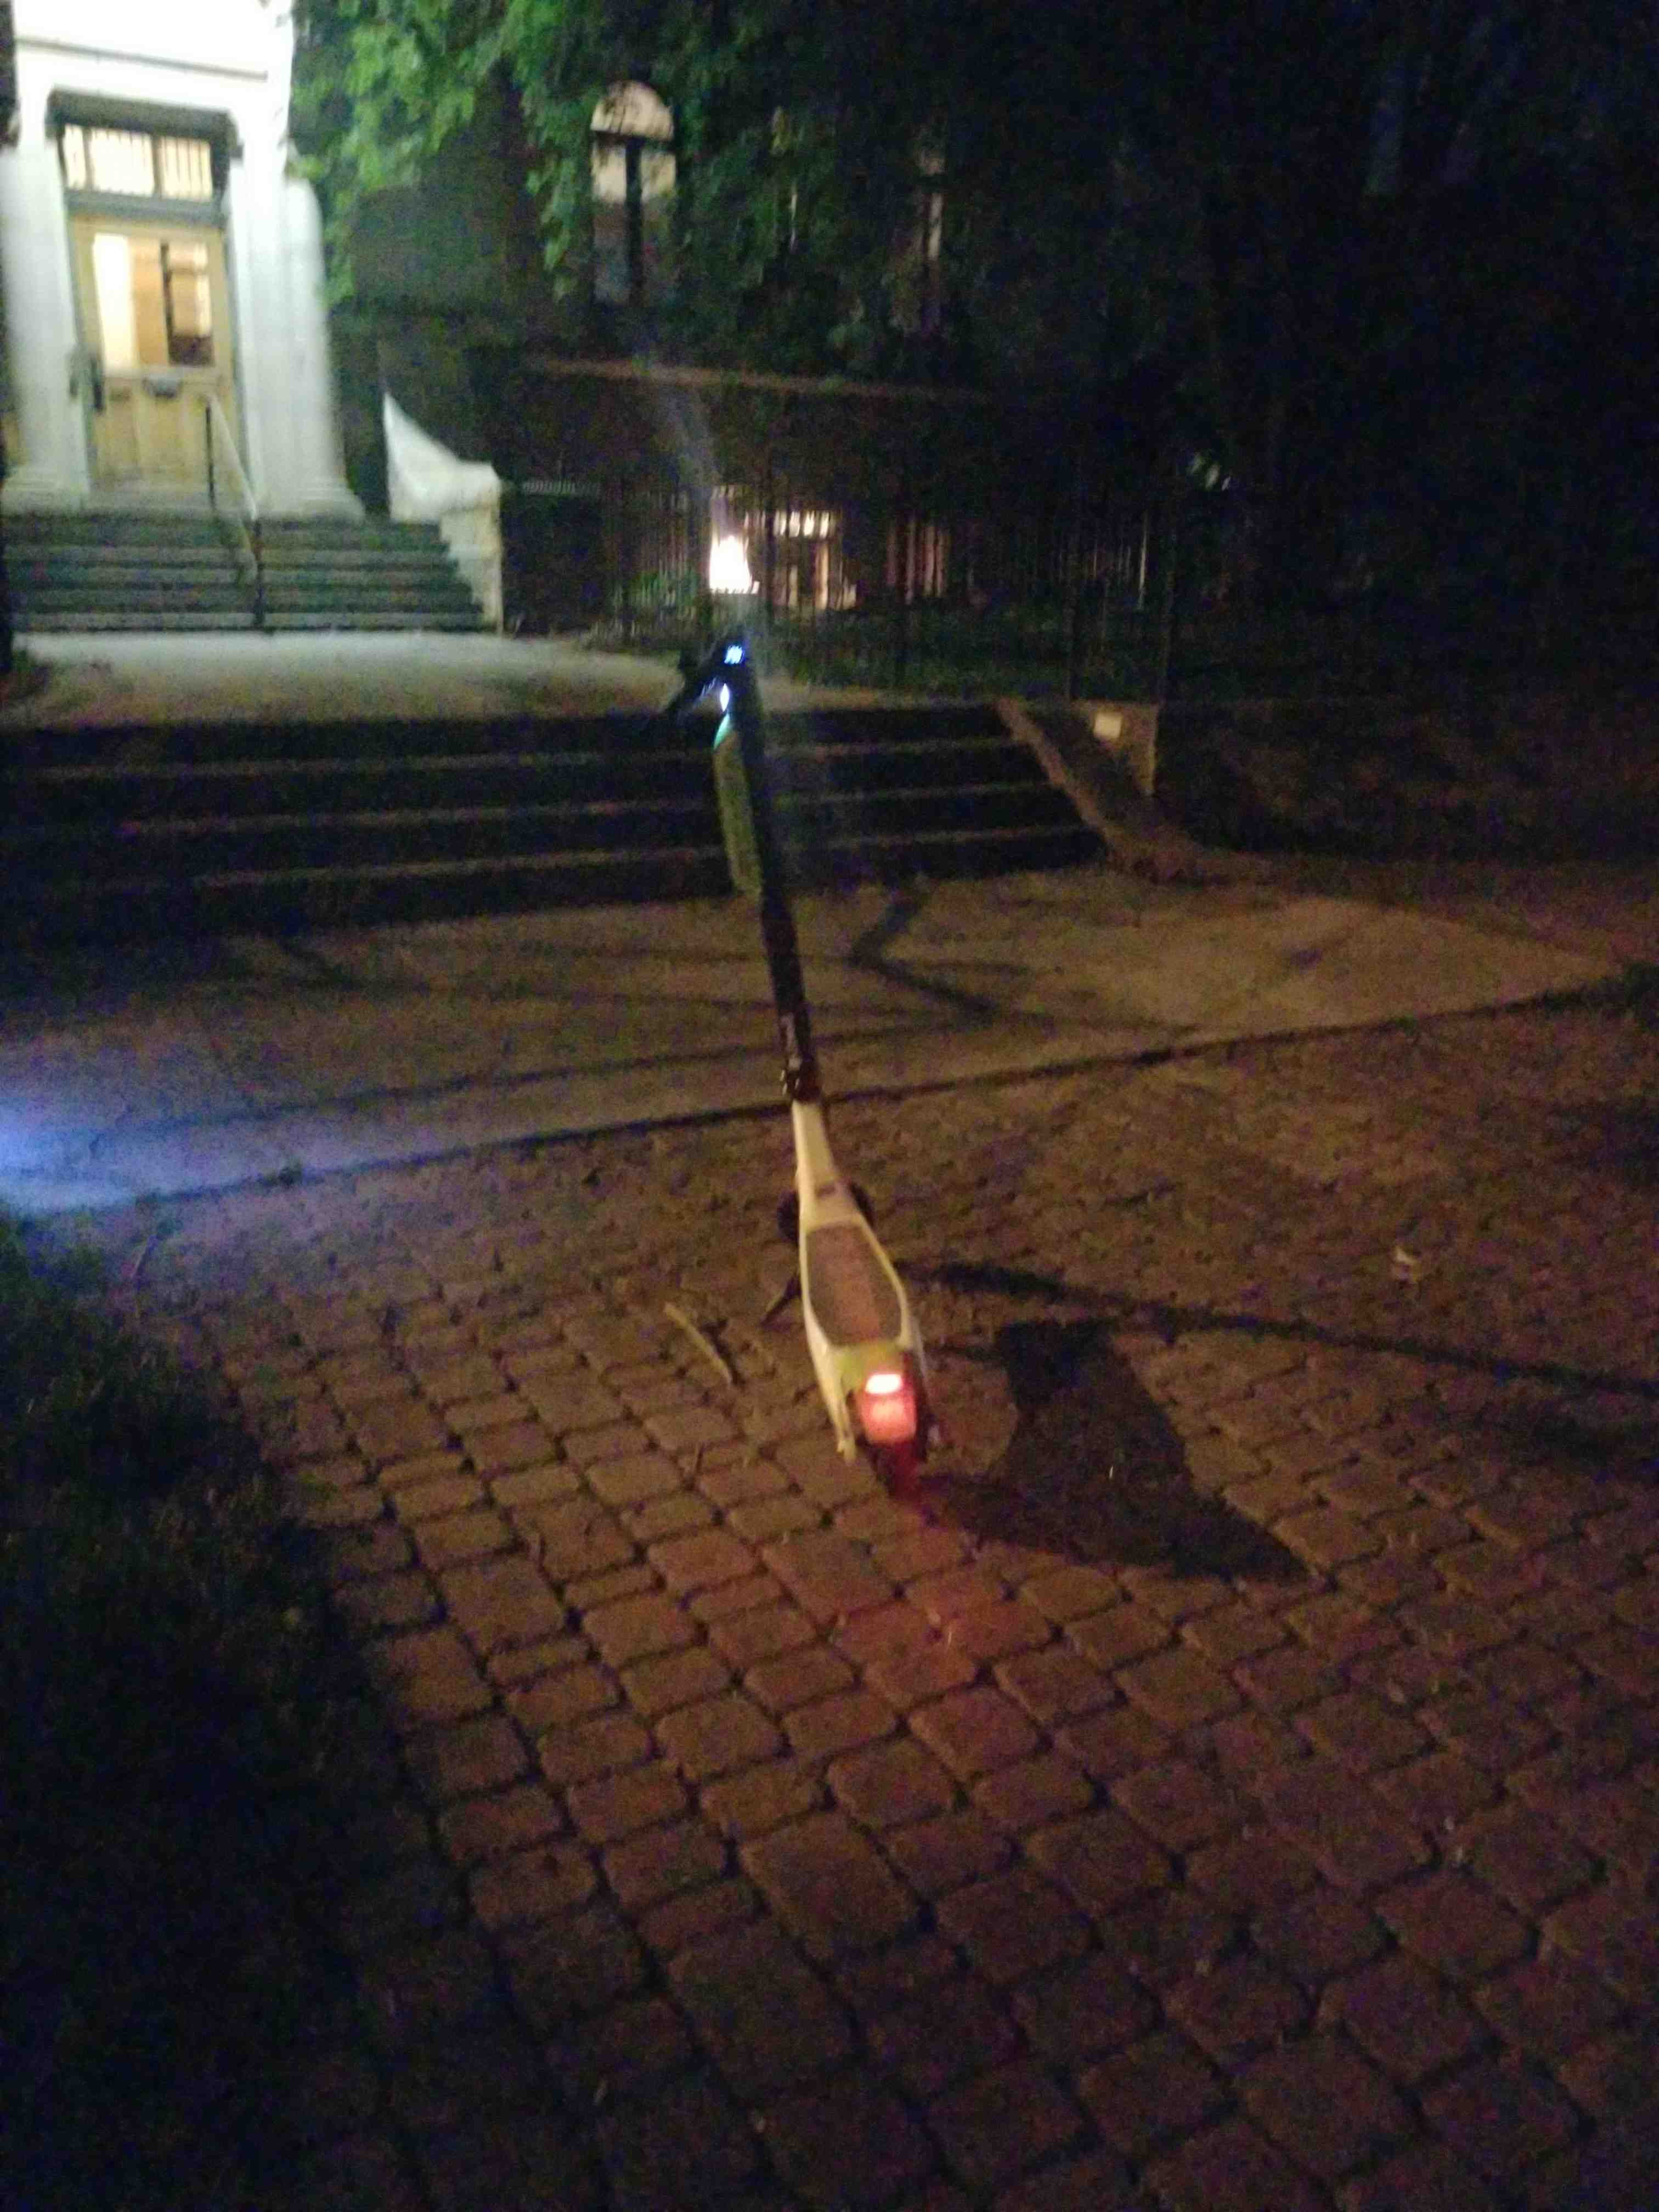scooter: (554, 554, 1056, 1514)
